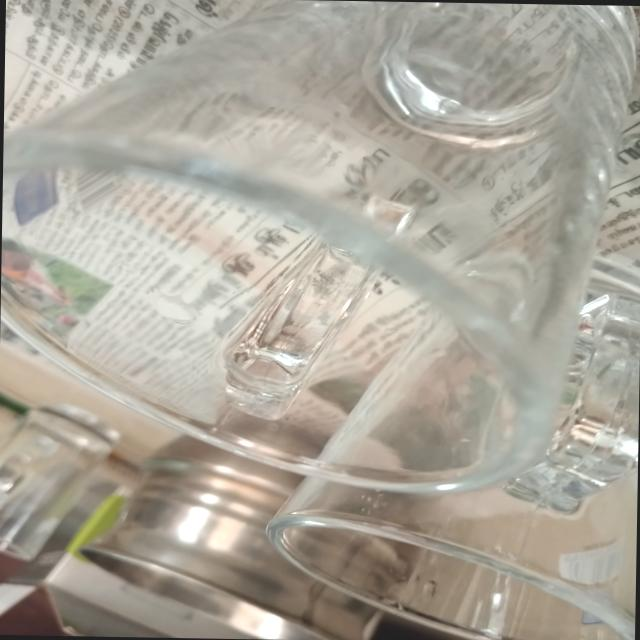glass-VX4N: (0, 0, 640, 495), (267, 211, 640, 640)
